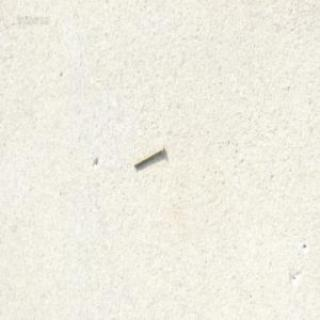Bolttrack_idkeyframe: (132, 144, 164, 168)
